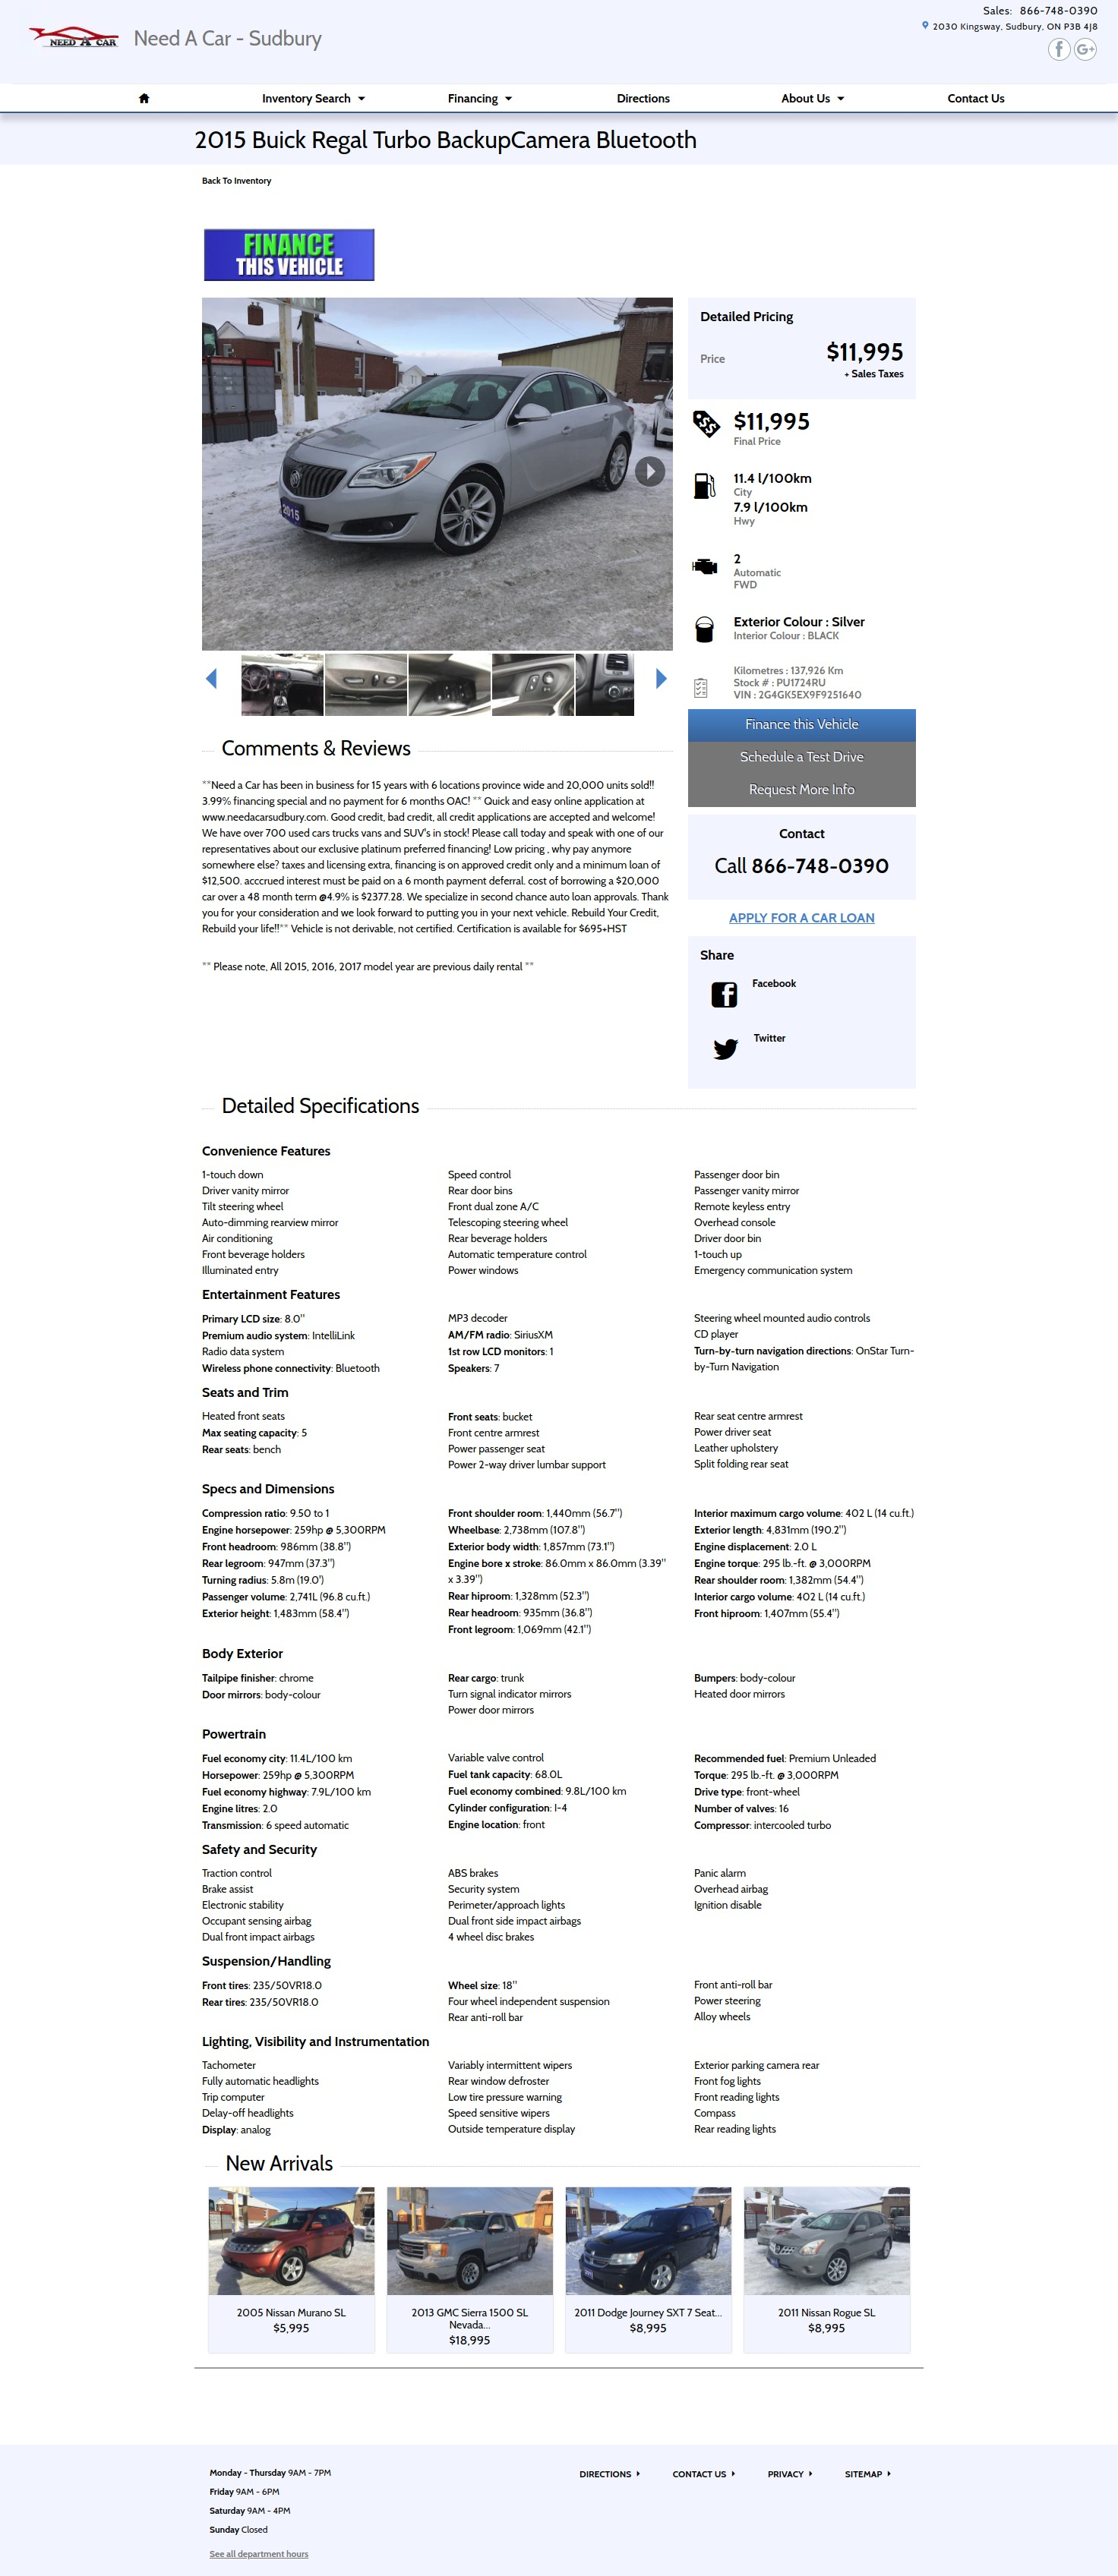car: (656, 667, 668, 690)
